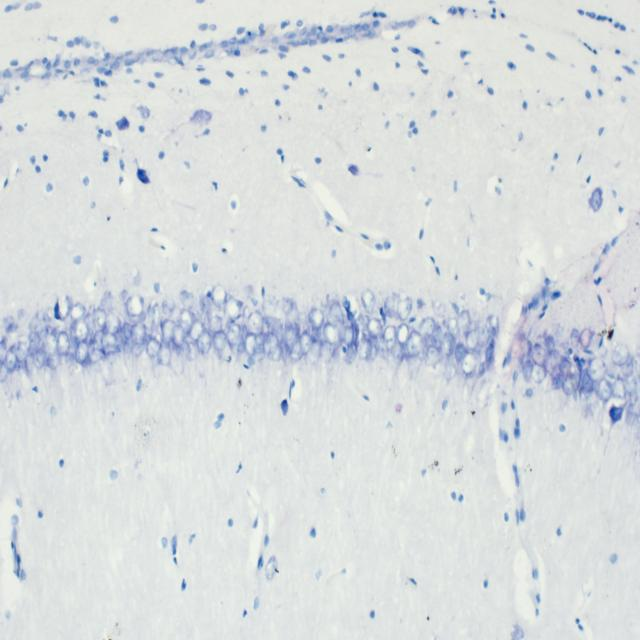neuron: (561, 364, 582, 396), (405, 329, 425, 358), (474, 318, 491, 348), (589, 356, 608, 382), (246, 309, 264, 336), (223, 297, 241, 322), (418, 316, 436, 341), (461, 352, 479, 377), (288, 338, 305, 364), (264, 331, 279, 359), (126, 295, 145, 317), (328, 300, 344, 326), (612, 342, 630, 365), (88, 339, 105, 363), (101, 332, 118, 356), (105, 311, 121, 336), (442, 330, 456, 358), (160, 318, 175, 344), (361, 288, 376, 314), (84, 312, 96, 344), (122, 340, 134, 372), (211, 284, 227, 308), (618, 354, 634, 378), (382, 325, 397, 350), (531, 342, 546, 367), (308, 307, 325, 329), (42, 332, 58, 355), (180, 307, 193, 335), (244, 332, 258, 358), (271, 317, 284, 345), (580, 370, 594, 396), (197, 330, 212, 354), (397, 297, 412, 321), (323, 322, 339, 344), (530, 363, 546, 385), (172, 324, 186, 349), (184, 336, 198, 361), (57, 332, 70, 358), (75, 339, 88, 365), (158, 342, 172, 366), (300, 328, 312, 356), (319, 341, 335, 362), (424, 345, 440, 366), (598, 378, 612, 402), (612, 376, 626, 400), (74, 319, 89, 341), (131, 322, 146, 344), (208, 314, 223, 336), (368, 317, 383, 339), (447, 316, 460, 341), (15, 341, 30, 362), (457, 309, 472, 330), (93, 307, 107, 329), (146, 337, 160, 359), (228, 324, 242, 346), (122, 321, 135, 344), (343, 326, 357, 347), (484, 340, 494, 369), (5, 348, 17, 372), (70, 302, 86, 320), (130, 340, 146, 358), (214, 330, 227, 352), (487, 314, 500, 336), (34, 347, 46, 370), (384, 296, 396, 319), (162, 296, 175, 317), (190, 320, 203, 341), (179, 289, 194, 307), (397, 323, 409, 345), (198, 294, 211, 314), (522, 359, 533, 382), (28, 331, 40, 352), (466, 330, 478, 351), (433, 326, 444, 348), (46, 352, 61, 368), (378, 338, 388, 362), (580, 328, 592, 348), (544, 336, 556, 355), (34, 323, 50, 337), (254, 332, 264, 354), (271, 345, 283, 362), (570, 328, 580, 348), (0, 361, 9, 383), (35, 309, 50, 322), (455, 342, 464, 362), (237, 333, 244, 357)
